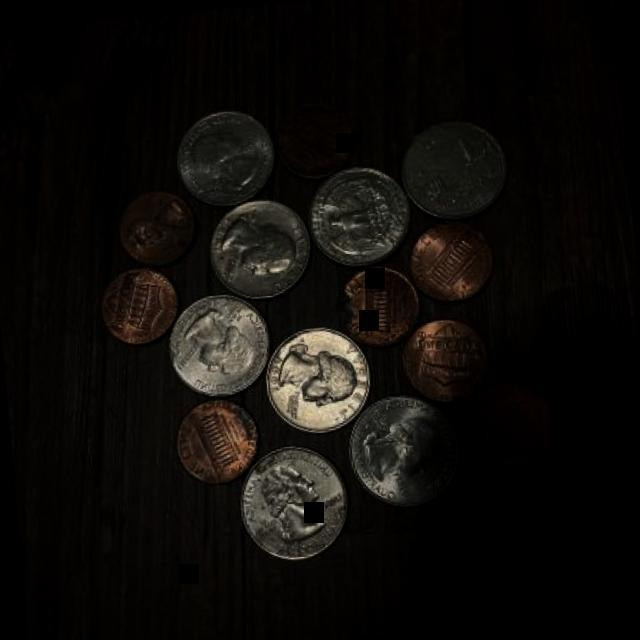Penny: (462, 372, 561, 470), (171, 390, 264, 484), (406, 212, 500, 300), (396, 311, 492, 397), (334, 258, 423, 348), (113, 183, 201, 274), (274, 92, 362, 178), (98, 262, 186, 346)
Quarter: (342, 386, 467, 510), (235, 438, 350, 564), (394, 108, 516, 225), (262, 318, 372, 437), (163, 288, 274, 400), (171, 100, 282, 211), (205, 188, 312, 302), (306, 158, 414, 268)
